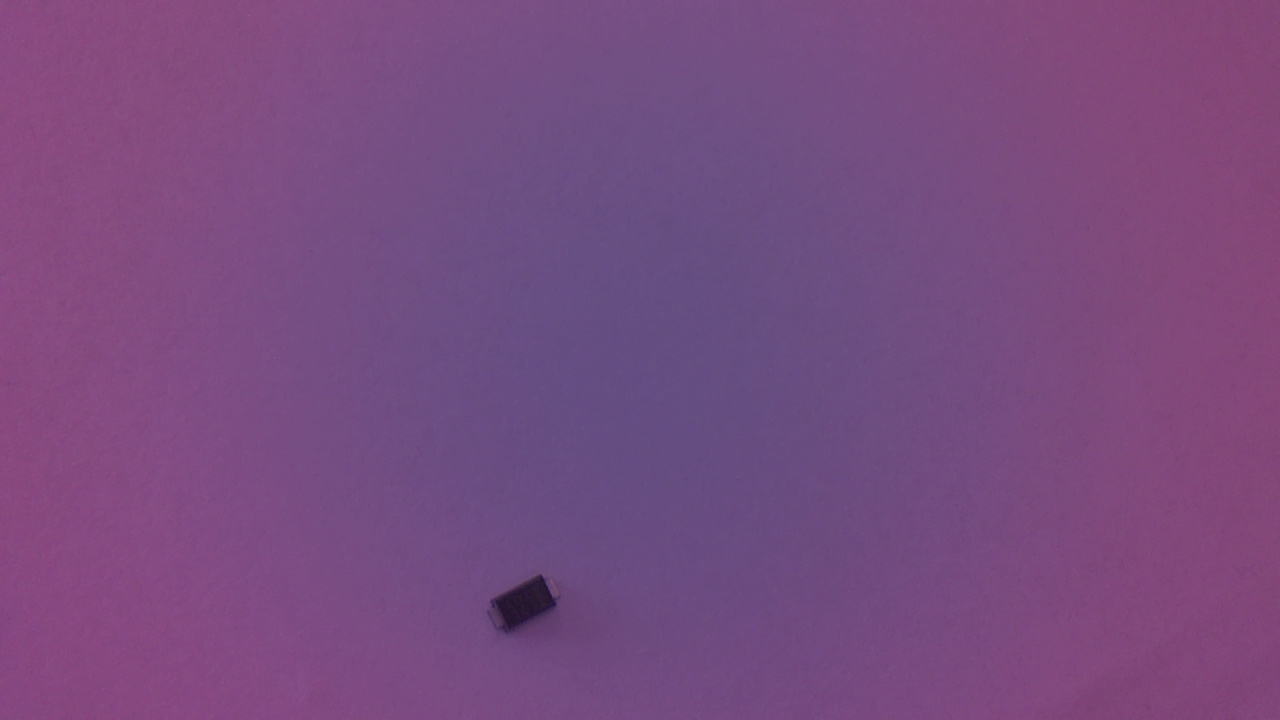Diode: (485, 570, 573, 642)
